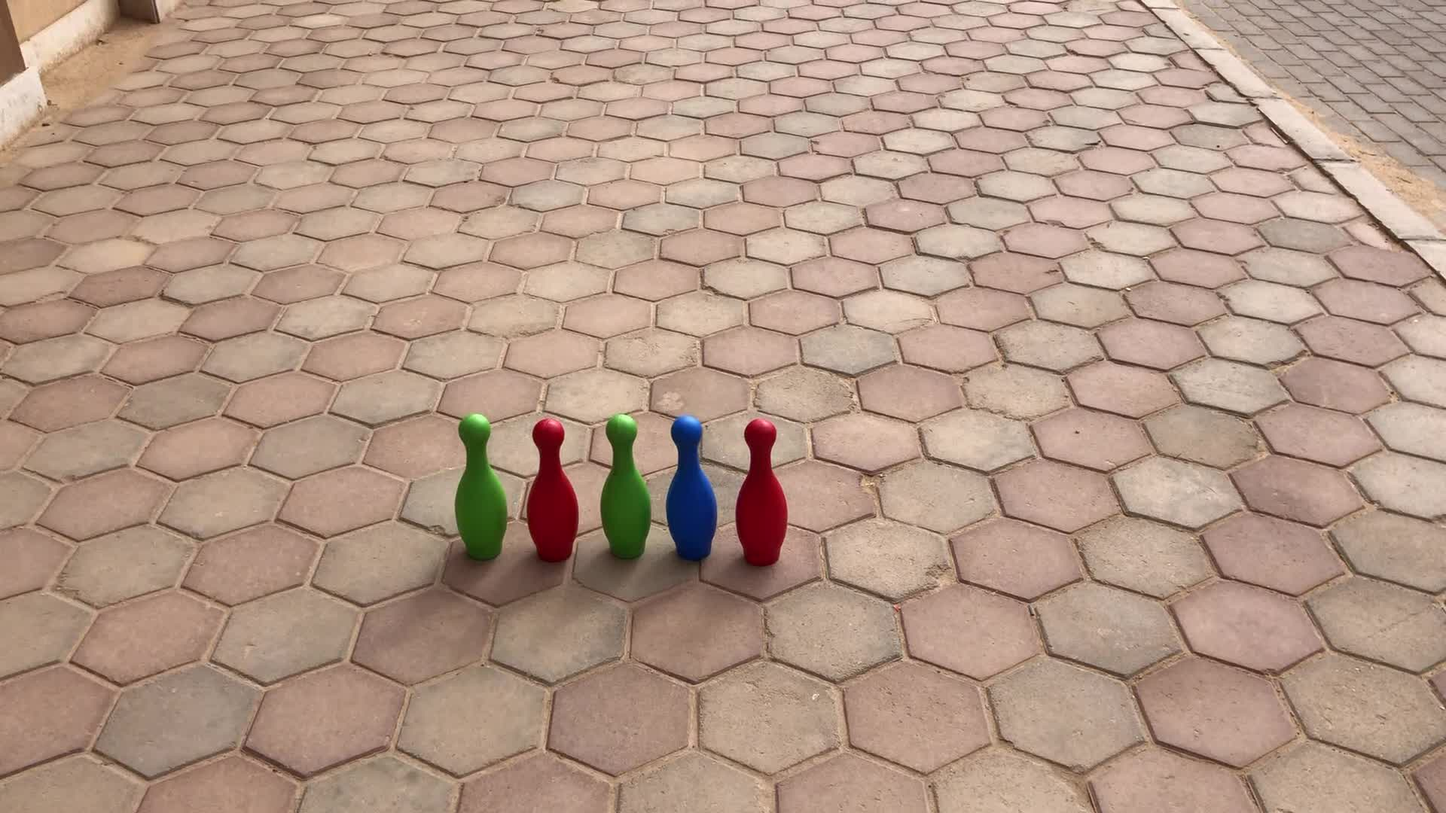bowling-pin: (455, 413, 508, 560), (527, 418, 579, 562), (666, 416, 717, 562), (737, 418, 787, 565), (602, 413, 651, 560)
